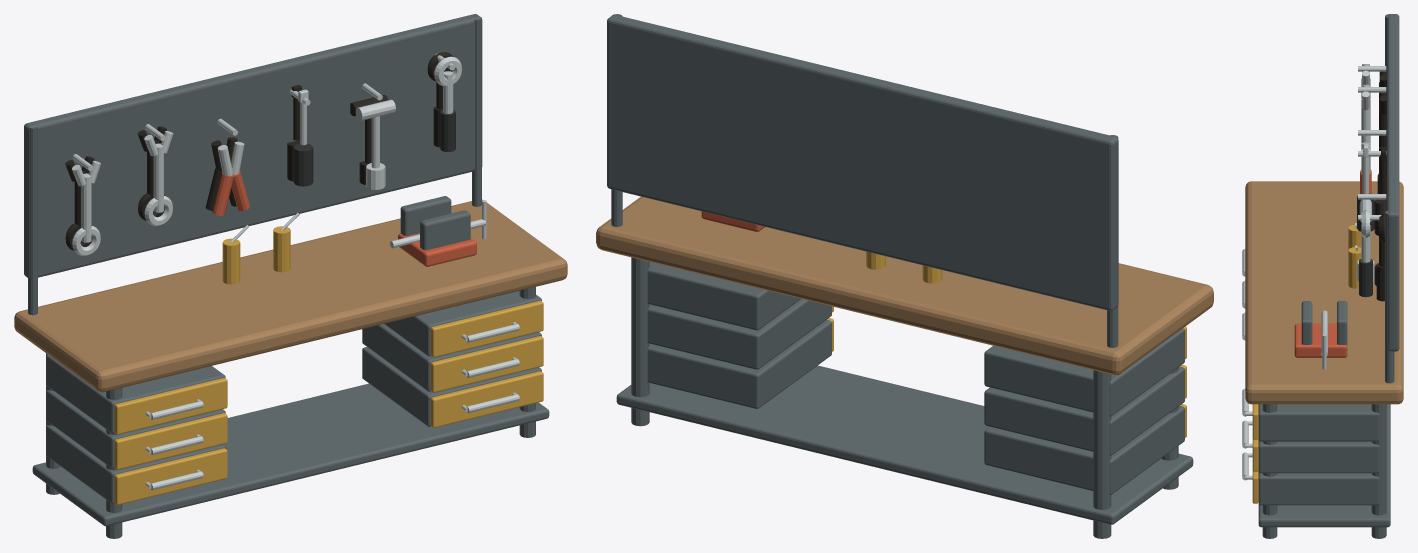
File: mei-workbench.glb
3 renders of one model, left to right at view 1: azimuth 30°, elevation 25°; view 2: azimuth 150°, elevation 25°; view 3: azimuth 270°, elevation 25°, orthographic. The views are drawn at different scales.
Visible parts, largest first — view 1: AuthoredWorkshop; view 2: AuthoredWorkshop; view 3: AuthoredWorkshop.
Part boxes in pixels (x1=…): AuthoredWorkshop: x1=14, y1=14, x2=567, y2=538; AuthoredWorkshop: x1=596, y1=14, x2=1213, y2=538; AuthoredWorkshop: x1=1242, y1=14, x2=1403, y2=538.
Size of the model in its own units: 2.8 by 2.07 by 0.918.
